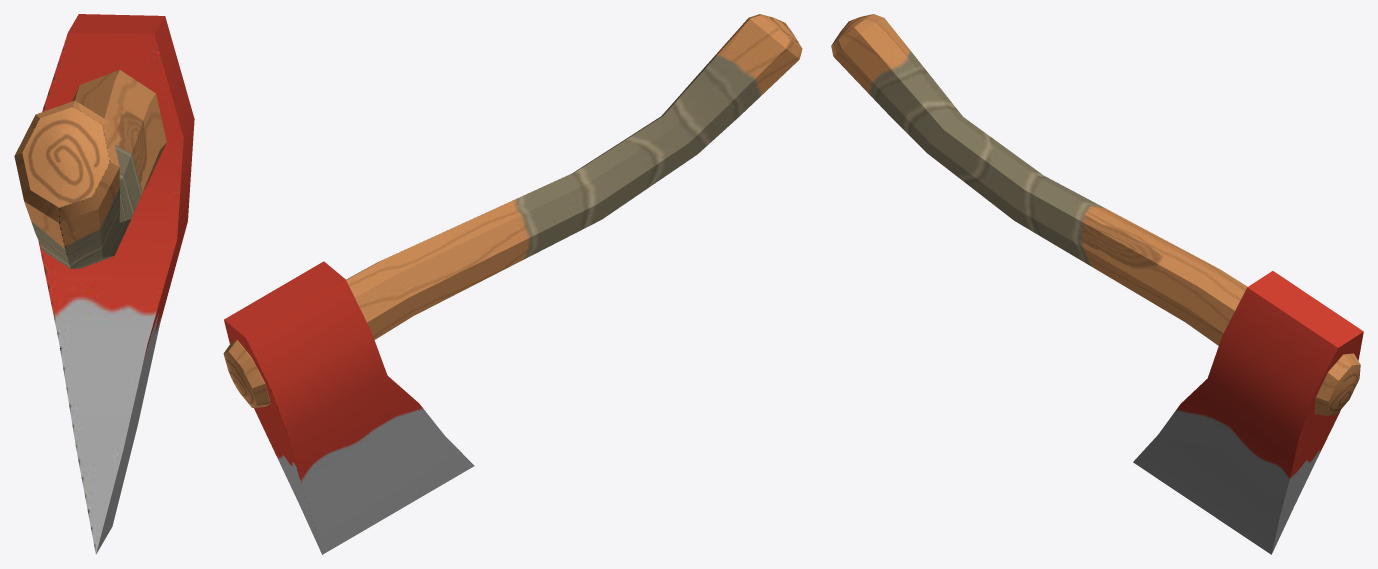
The model's file is Axe.FBX.
The picture shows the model from 3 angles, left to right: view 1: azimuth 30°, elevation 25°; view 2: azimuth 150°, elevation 25°; view 3: azimuth 270°, elevation 25°; orthographic projection. The views are drawn at different scales.
Parts seen in each view (by area): view 1: Cylinder001; view 2: Cylinder001; view 3: Cylinder001.
Part boxes in pixels (left/top/right/bottom): Cylinder001: left=14, top=14, right=194, bottom=554; Cylinder001: left=223, top=14, right=802, bottom=554; Cylinder001: left=831, top=14, right=1363, bottom=554.
Bounding box in the file's own units: 42.48 × 54.43 × 61.22.
